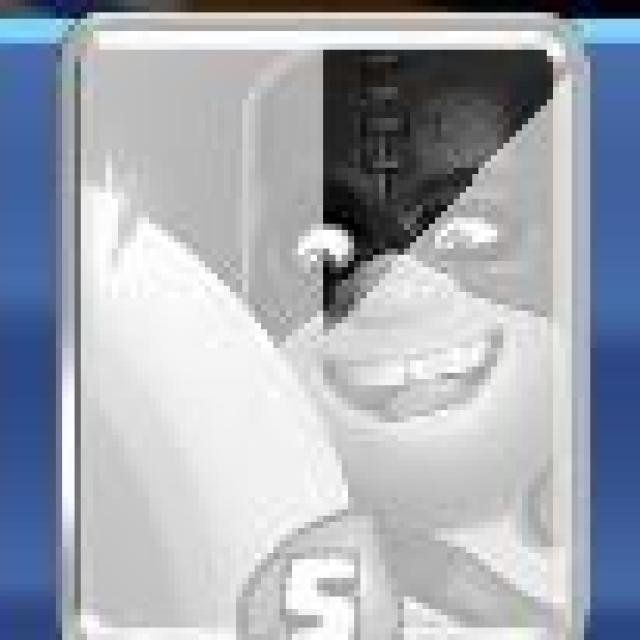Fire_Spirit: (56, 11, 587, 640)
